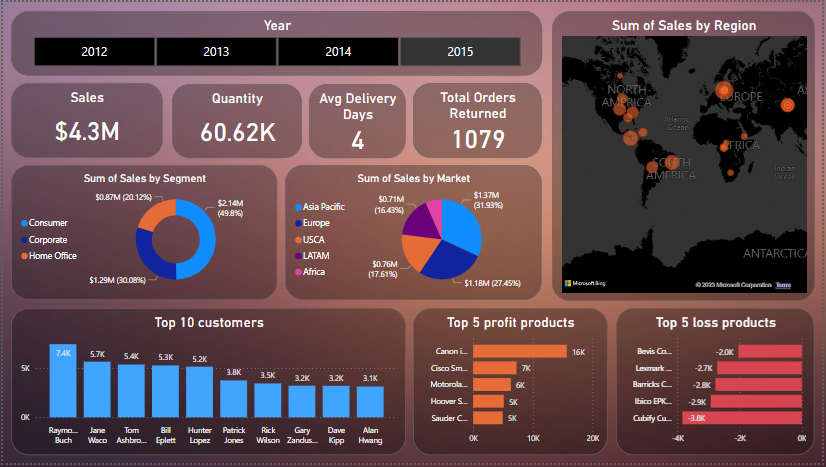

What the dashboard file says about the page in this screenshot:
{"tool":"powerbi","page":{"name":"Page 1","canvas":[1280,720],"ordinal":0},"visuals":[{"type":"card","title":"Sales","fields":{"Values":["Sum(Orders.Sales)"]},"box":[11.7,125.8,236.5,117.4],"z":0},{"type":"card","title":"Quantity","fields":{"Values":["Sum(Orders.Quantity)"]},"box":[263.4,127.5,203,115.8],"z":1000},{"type":"card","title":"Avg Delivery Days","fields":{"Values":["Avg(Orders.Delivery Days)"]},"box":[478.1,127.5,151,115.8],"z":2000},{"type":"slicer","title":"Year","fields":{"Values":["Orders.Year"]},"box":[11.7,13.4,830.4,100.7],"z":3000},{"type":"card","title":"Total Orders Returned","fields":{"Values":["Sum(Returns.Return Orders)"]},"box":[640.8,125.8,201.3,117.4],"z":4000},{"type":"map","fields":{"Size":["Sum(Orders.Sales)"],"Category":["Orders.Region"]},"box":[857.2,13.4,411,452.9],"z":5000},{"type":"barChart","title":"Top 5 profit products","fields":{"Y":["Sum(Orders.Profit)"],"Category":["Orders.Product Name"]},"box":[640.8,478.1,303.6,229.8],"z":6000},{"type":"barChart","title":"Top 5 loss products","fields":{"Y":["Sum(Orders.Profit)"],"Category":["Orders.Product Name"]},"box":[957.9,478.1,310.4,229.8],"z":7000},{"type":"pieChart","fields":{"Y":["Sum(Orders.Sales)"],"Category":["Orders.Market"]},"box":[441.2,255,400.9,211.4],"z":8000},{"type":"donutChart","fields":{"Category":["Orders.Segment"],"Y":["Sum(Orders.Sales)"]},"box":[11.7,255,416,211.4],"z":9000},{"type":"columnChart","title":"Top 10 customers","fields":{"Y":["Sum(Orders.Profit)"],"Category":["Orders.Customer Name"]},"box":[11.7,478.1,617.4,229.8],"z":10000}]}

Visuals, with their boxes in screenshot pixels (x1, y1, x2, y2), scaled from the page's 1280x720 canvas onto the 826x467 screenshot:
"Sales" card: (8, 82, 160, 158)
"Quantity" card: (170, 83, 301, 158)
"Avg Delivery Days" card: (309, 83, 406, 158)
"Year" slicer: (8, 9, 543, 74)
"Total Orders Returned" card: (414, 82, 543, 158)
map - Sum(Orders.Sales) x Orders.Region: (553, 9, 818, 302)
"Top 5 profit products" barChart: (414, 310, 609, 459)
"Top 5 loss products" barChart: (618, 310, 818, 459)
pieChart - Sum(Orders.Sales) x Orders.Market: (285, 165, 543, 303)
donutChart - Orders.Segment x Sum(Orders.Sales): (8, 165, 276, 303)
"Top 10 customers" columnChart: (8, 310, 406, 459)
